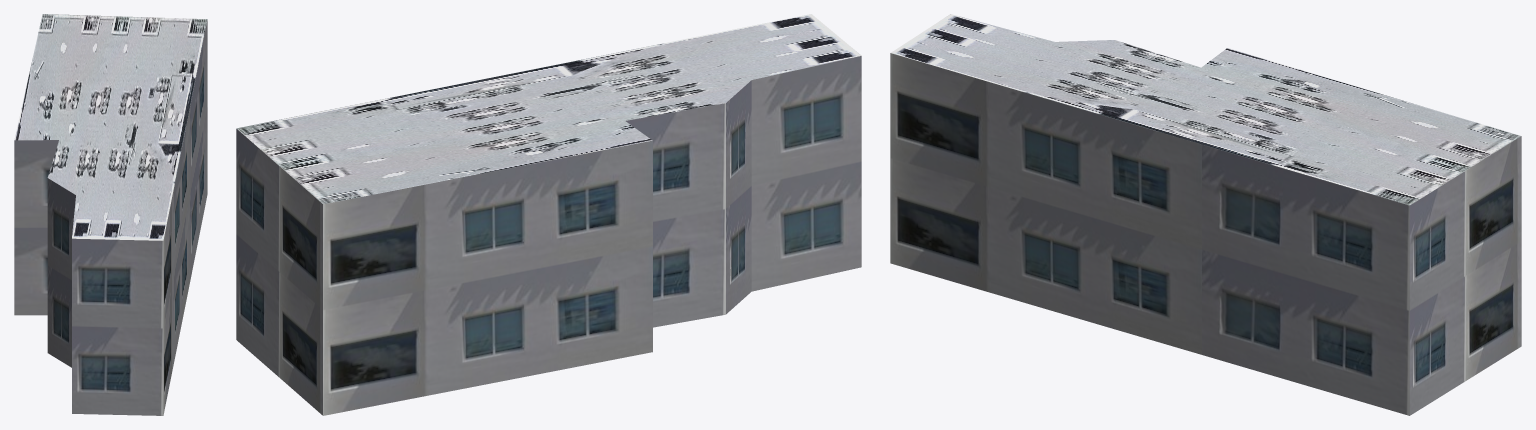
Rendered from ResTex__4848.fbx.
3 views of the same model, side by side, from view 1: azimuth 30°, elevation 25°; view 2: azimuth 150°, elevation 25°; view 3: azimuth 270°, elevation 25° (orthographic). The views are drawn at different scales.
Parts seen in each view (by area): view 1: CityEngineMaterial_10_m, CityEngineMaterial_2_m; view 2: CityEngineMaterial_10_m, CityEngineMaterial_2_m; view 3: CityEngineMaterial_10_m, CityEngineMaterial_2_m.
Boxes of the visible parts, bbox=[...] form: CityEngineMaterial_10_m: bbox=[14, 20, 207, 415]; CityEngineMaterial_2_m: bbox=[14, 14, 207, 240]; CityEngineMaterial_10_m: bbox=[236, 56, 861, 415]; CityEngineMaterial_2_m: bbox=[236, 14, 861, 204]; CityEngineMaterial_10_m: bbox=[890, 53, 1521, 415]; CityEngineMaterial_2_m: bbox=[891, 14, 1520, 205].
Bounding box in the file's own units: 11.71 × 6 × 16.31.
Materials: 2 (2 with a texture image).
